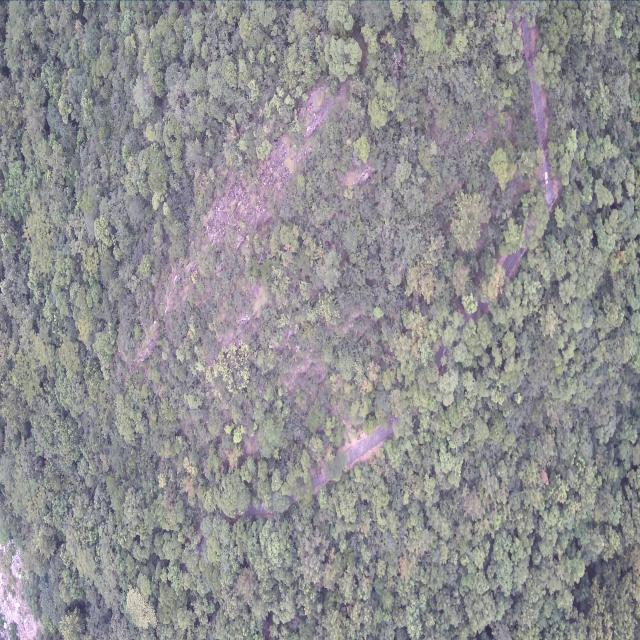UAV: (296, 345, 300, 352)
